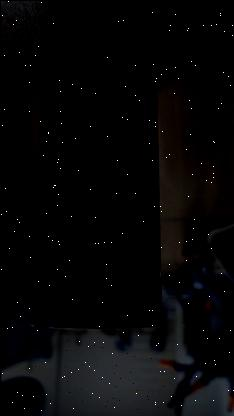Can: (40, 63, 162, 323)
